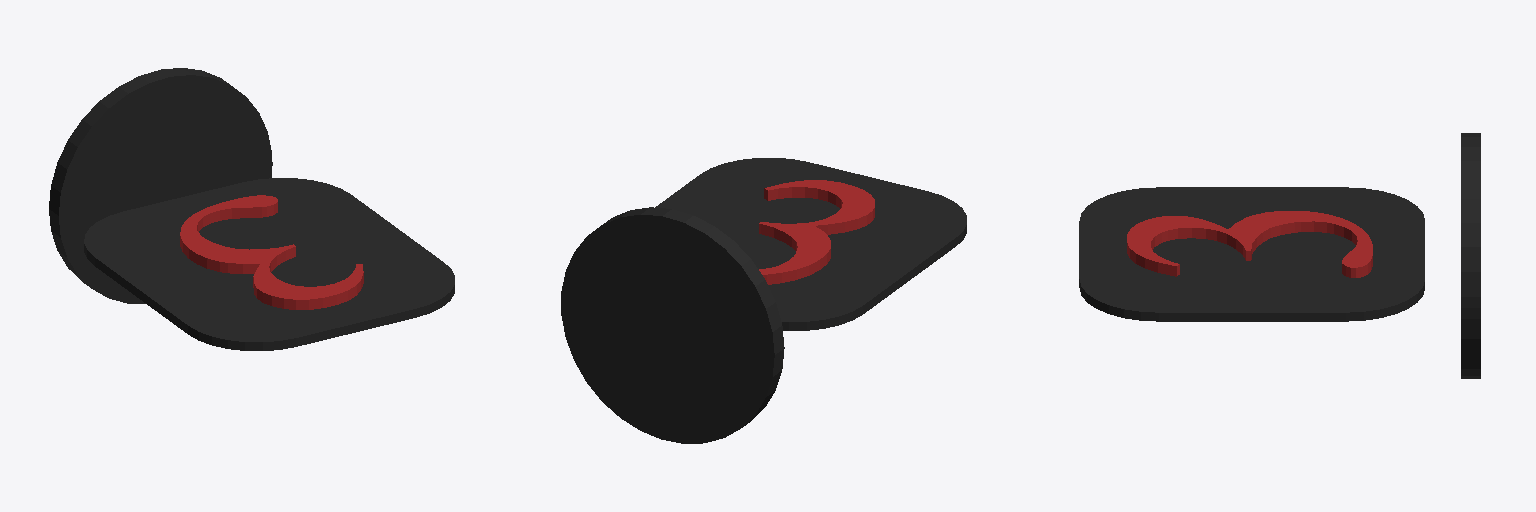
3 renders of one model, left to right at view 1: azimuth 30°, elevation 25°; view 2: azimuth 150°, elevation 25°; view 3: azimuth 270°, elevation 25°, orthographic.
Visible parts, largest first — view 1: ART_GS[number redacted]_A; view 2: ART_GS[number redacted]_A; view 3: ART_GS[number redacted]_A.
Part boxes in pixels (x1,y1,x2,y2): ART_GS[number redacted]_A: (49, 68, 454, 350); ART_GS[number redacted]_A: (561, 158, 966, 443); ART_GS[number redacted]_A: (1079, 133, 1480, 378).
Size of the model in its own units: 0.45 by 0.3745 by 0.6088.